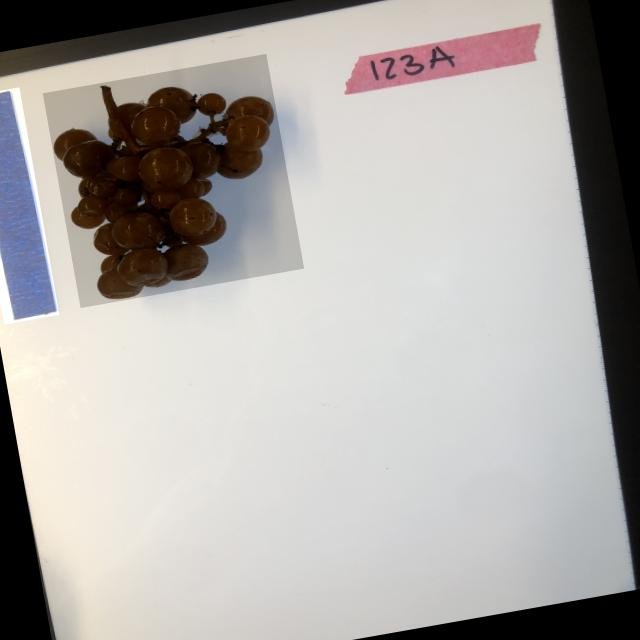grape_cluster: (42, 54, 304, 308)
measure_label: (0, 87, 59, 324)
